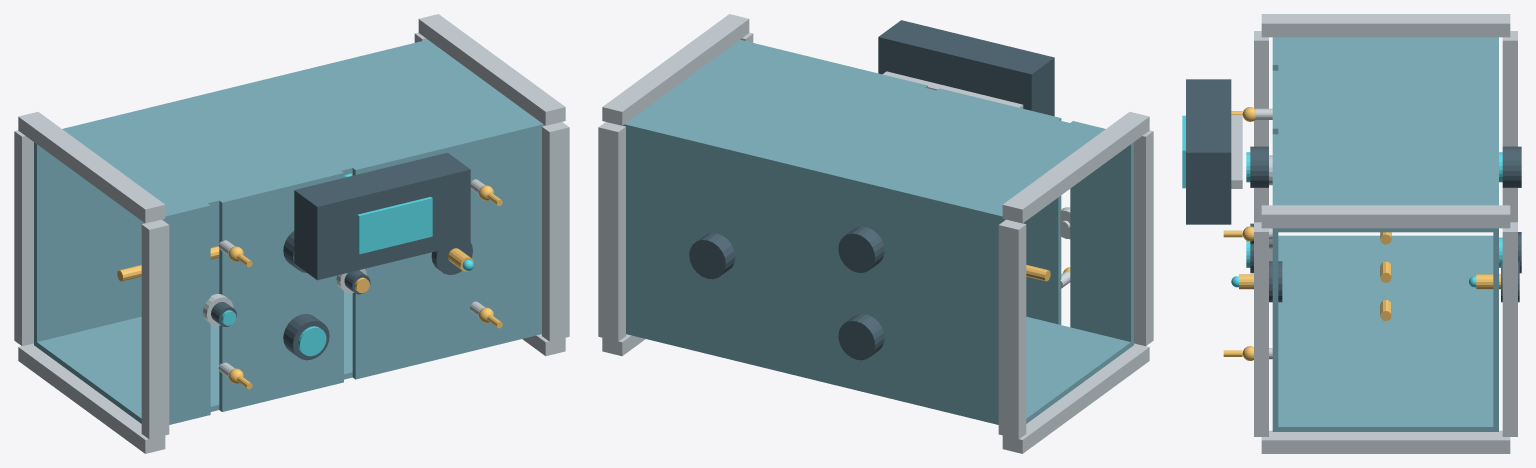
File: MirrorSig-vent-spool.glb
3 renders of one model, left to right at view 1: azimuth 30°, elevation 25°; view 2: azimuth 150°, elevation 25°; view 3: azimuth 270°, elevation 25°, orthographic. The views are drawn at different scales.
Parts seen in each view (by area): view 1: wall, metal, dark, cyan, amber; view 2: wall, metal, dark; view 3: wall, metal, dark, amber, cyan.
Boxes of the visible parts, x1=… form: wall: x1=34, y1=39, x2=544, y2=424; metal: x1=14, y1=14, x2=569, y2=453; dark: x1=211, y1=152, x2=472, y2=360; cyan: x1=221, y1=173, x2=473, y2=356; amber: x1=117, y1=173, x2=502, y2=389; wall: x1=623, y1=39, x2=1133, y2=424; metal: x1=598, y1=14, x2=1153, y2=453; dark: x1=689, y1=20, x2=1054, y2=360; wall: x1=1272, y1=37, x2=1498, y2=431; metal: x1=1231, y1=14, x2=1517, y2=453; dark: x1=1186, y1=79, x2=1521, y2=302; amber: x1=1223, y1=107, x2=1500, y2=360; cyan: x1=1182, y1=115, x2=1502, y2=287.
Size of the model in its own units: 0.252 by 0.14 by 0.18.
